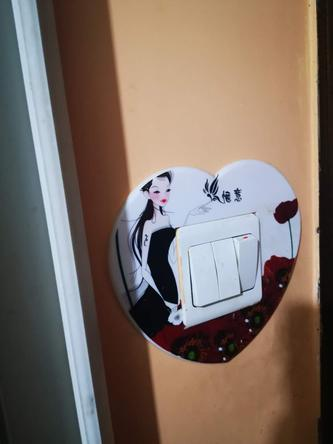switch: (183, 239, 223, 309), (208, 235, 244, 301), (230, 228, 262, 294)
